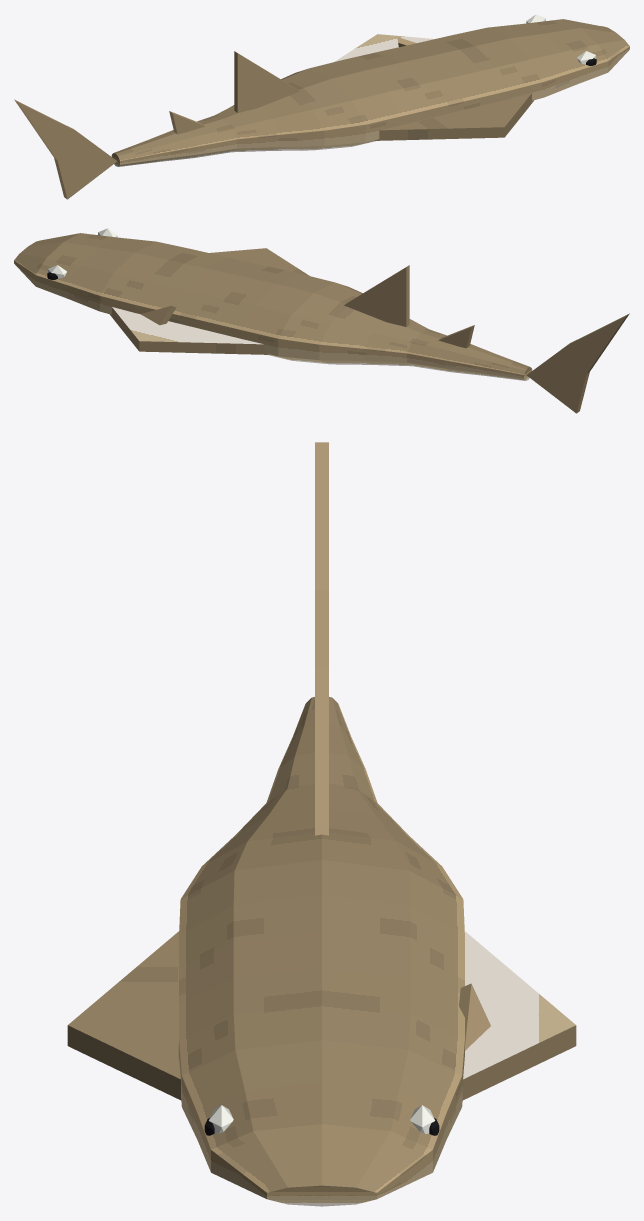
The model's file is shovelnose_ray.glb.
3 views of the same model, one above another, from view 1: azimuth 30°, elevation 25°; view 2: azimuth 150°, elevation 25°; view 3: azimuth 270°, elevation 25° (orthographic). The views are drawn at different scales.
Parts seen in each view (by area): view 1: fish_shovelnose_ray; view 2: fish_shovelnose_ray; view 3: fish_shovelnose_ray.
Part boxes in pixels (<box>): fish_shovelnose_ray: <box>14,14,629,199</box>; fish_shovelnose_ray: <box>14,228,629,413</box>; fish_shovelnose_ray: <box>67,442,576,1206</box>.
Size of the model in its own units: 1.2 by 0.2146 by 0.44.
Materials: 4 (1 with a texture image).
